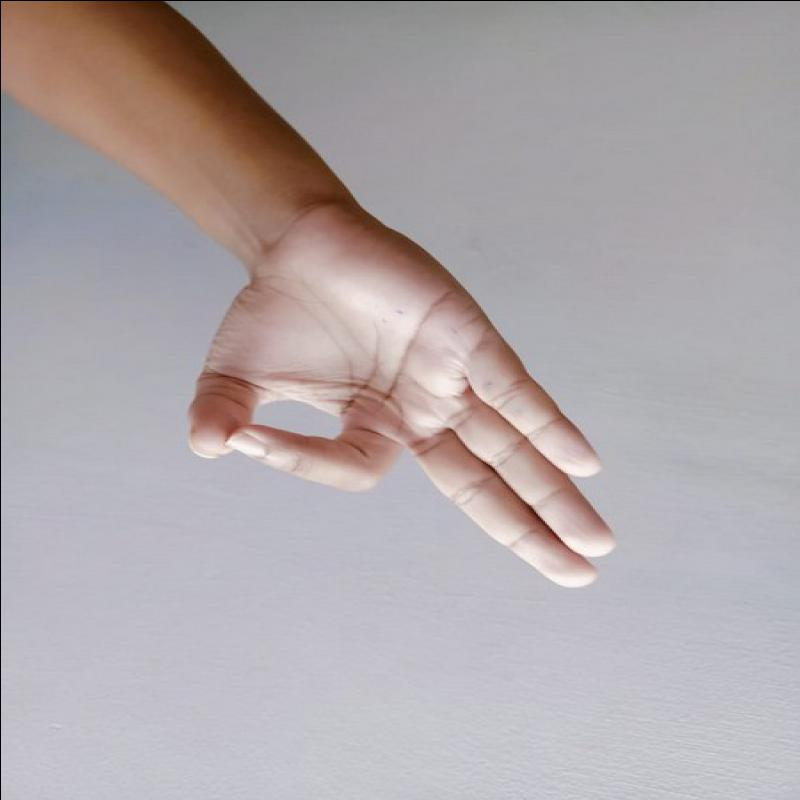Mudraakhyam: (173, 194, 635, 606)
